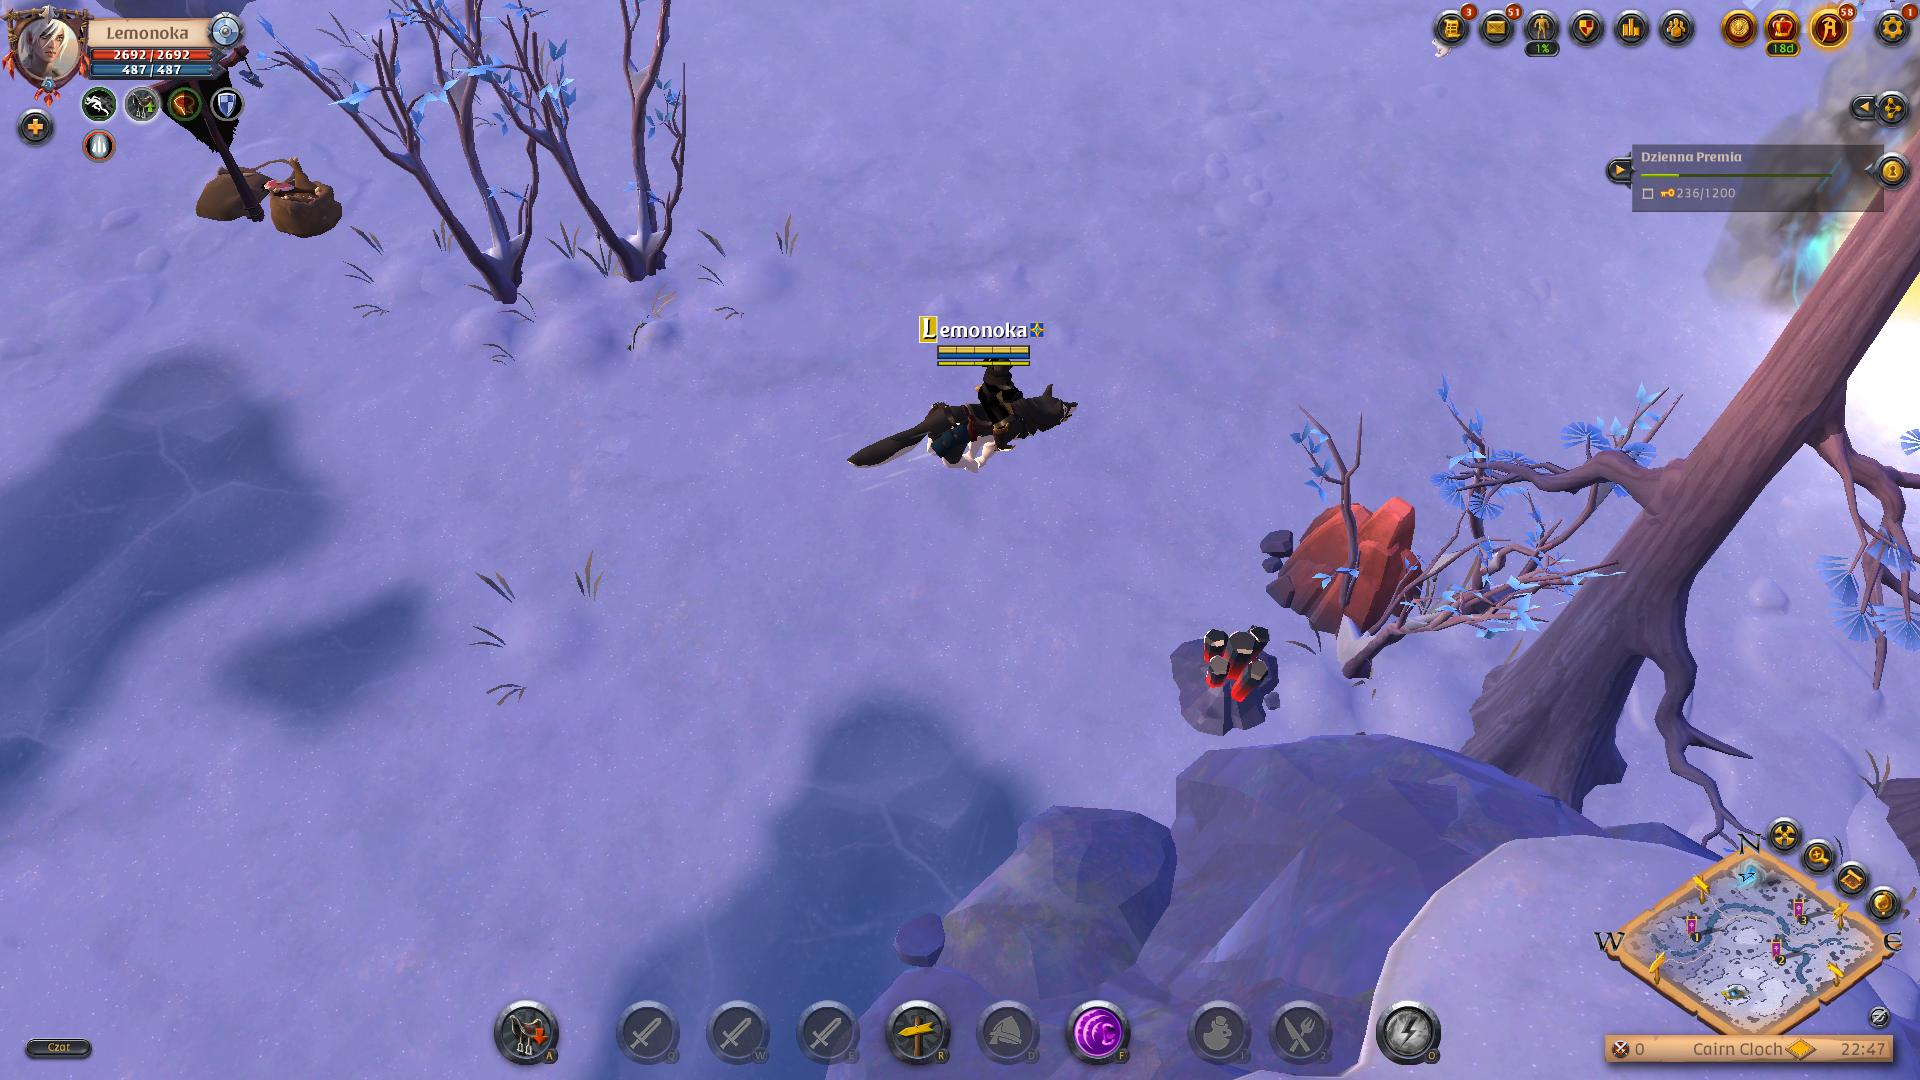ore tier 5: (1164, 620, 1283, 738)
rock tier 5: (1265, 495, 1422, 636)
